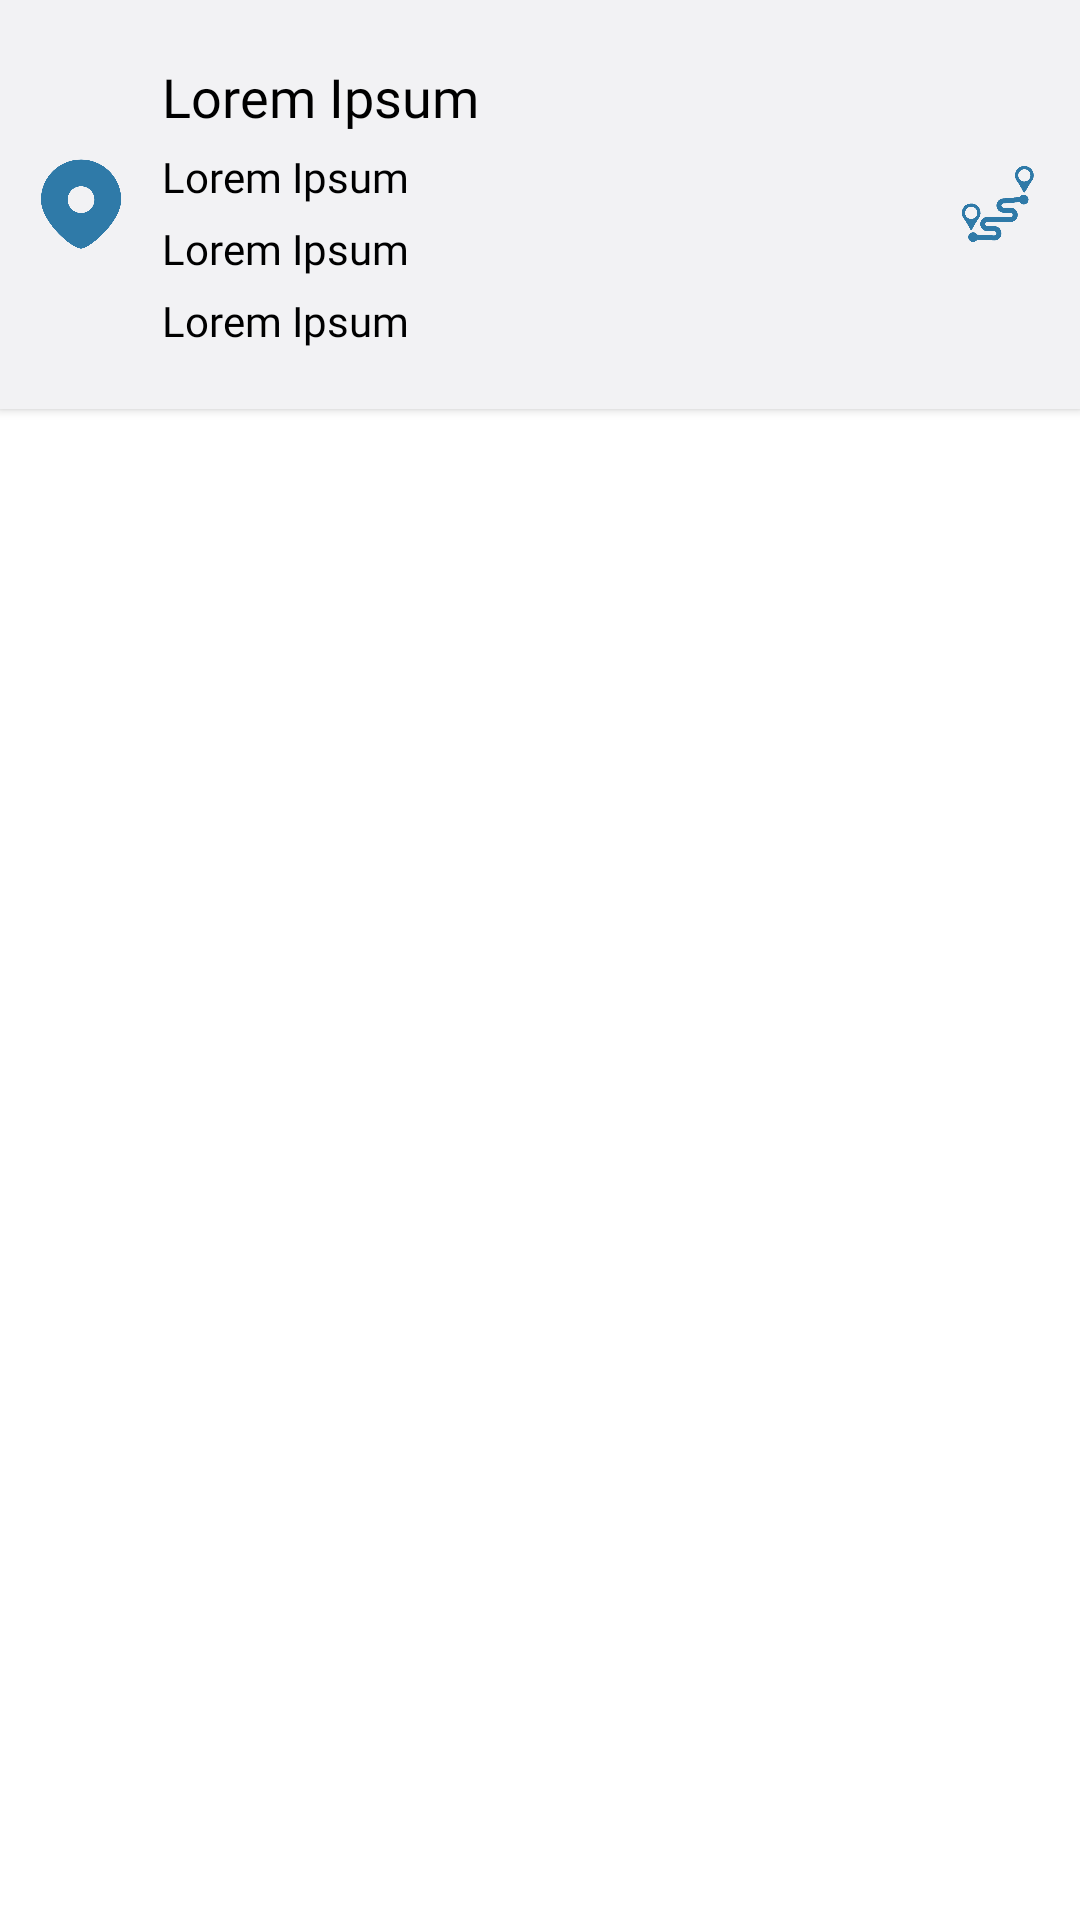

Locate icon controls on the screen. Image size 1080x1920, boxes as (x1, y1, x2, y2).
location navigate: (962, 166, 1034, 242)
location pin: (41, 159, 121, 249)
